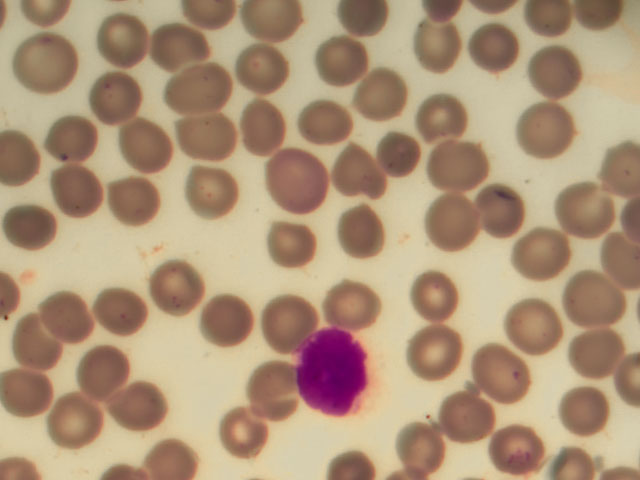RBC: (13, 33, 73, 91), (39, 95, 99, 153), (48, 168, 108, 226), (90, 170, 150, 228), (114, 116, 174, 174), (5, 194, 65, 252), (86, 69, 146, 127), (90, 15, 150, 73), (147, 14, 207, 72), (175, 61, 235, 119), (175, 103, 235, 161), (180, 161, 240, 219), (225, 96, 285, 154), (235, 34, 295, 92), (243, 2, 303, 60), (307, 30, 367, 88), (344, 64, 404, 122), (309, 94, 369, 152), (266, 141, 326, 199), (332, 145, 392, 203), (361, 125, 421, 183), (413, 83, 473, 141), (428, 133, 488, 191), (427, 193, 487, 251), (459, 180, 519, 238), (513, 218, 573, 276), (555, 181, 615, 239), (518, 99, 578, 157), (527, 37, 587, 95), (462, 25, 522, 83), (405, 16, 465, 74), (334, 207, 394, 265), (256, 219, 316, 277), (259, 287, 319, 345), (205, 297, 265, 355), (147, 257, 207, 315), (95, 278, 155, 336), (38, 283, 98, 341), (1, 358, 61, 416), (48, 388, 108, 446), (71, 342, 131, 400), (104, 371, 164, 429), (216, 409, 276, 467), (242, 357, 302, 415), (410, 317, 470, 375), (403, 271, 463, 329), (321, 277, 381, 335), (472, 342, 532, 400), (438, 383, 498, 441), (397, 418, 457, 476), (497, 419, 557, 477), (558, 381, 618, 439), (564, 334, 624, 392), (564, 274, 624, 332), (506, 297, 566, 355), (580, 221, 640, 279), (1, 306, 60, 364)
WBC: (296, 331, 375, 414)
